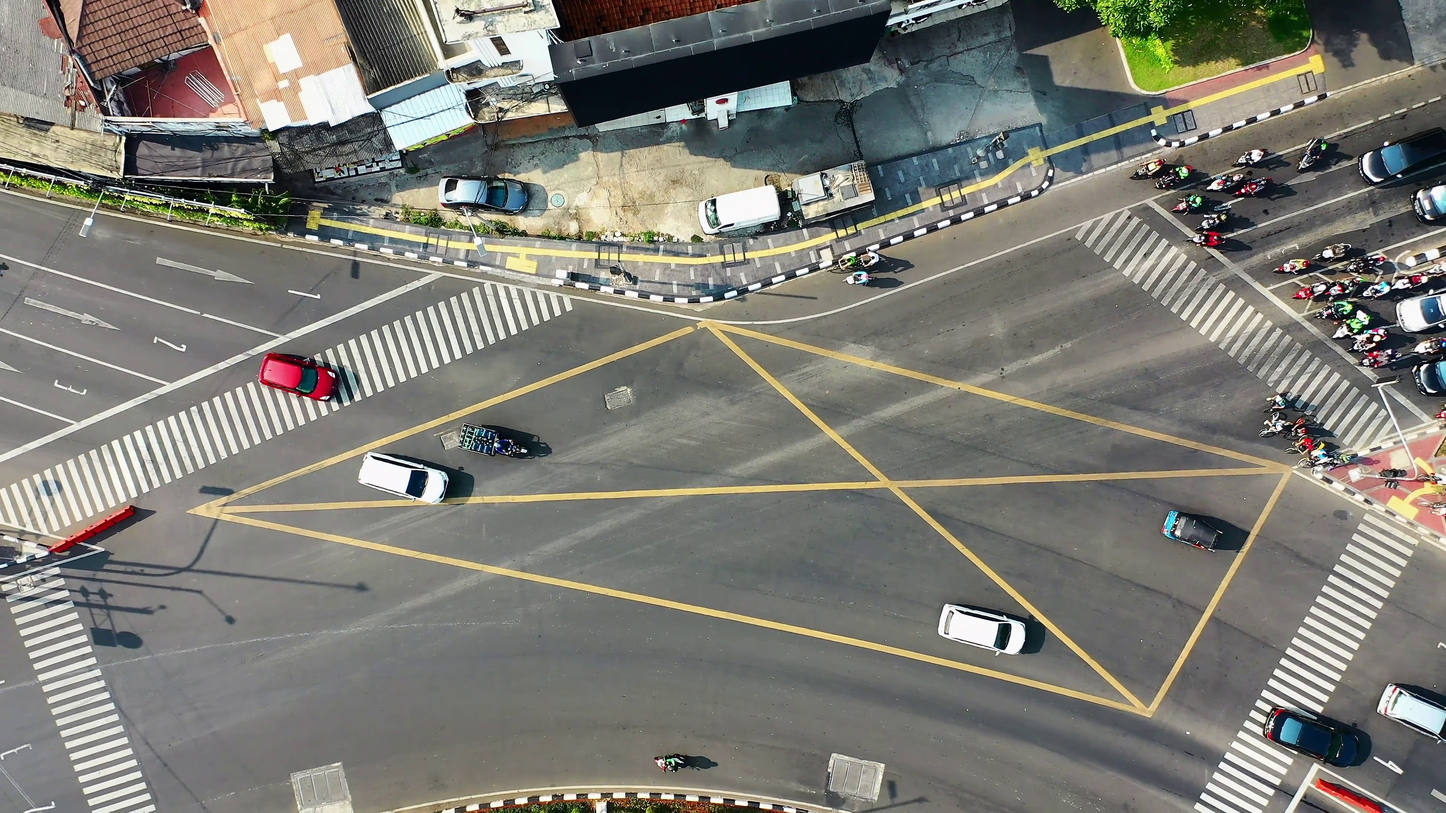Vehicle: (249, 346, 356, 410), (1255, 709, 1366, 768), (934, 600, 1032, 662), (351, 450, 451, 505), (1358, 126, 1446, 187), (431, 169, 541, 217), (698, 180, 785, 238), (1375, 679, 1446, 744), (454, 412, 533, 466), (1161, 511, 1223, 552), (1396, 288, 1446, 333), (1293, 131, 1335, 175), (651, 743, 702, 778), (1410, 187, 1446, 226), (1410, 361, 1446, 397), (1312, 237, 1357, 265), (1130, 154, 1171, 183), (1333, 311, 1376, 338), (1235, 140, 1274, 168), (1157, 165, 1197, 191), (1292, 277, 1333, 302), (1205, 169, 1247, 193), (1237, 175, 1273, 202), (1186, 231, 1232, 251), (1350, 329, 1389, 352), (1349, 249, 1388, 272), (1198, 206, 1235, 230), (1273, 255, 1312, 277), (1358, 348, 1398, 369), (1317, 299, 1354, 321), (1364, 277, 1393, 304), (1174, 192, 1206, 216), (1412, 336, 1446, 357), (1333, 277, 1365, 294), (1434, 404, 1446, 427)
